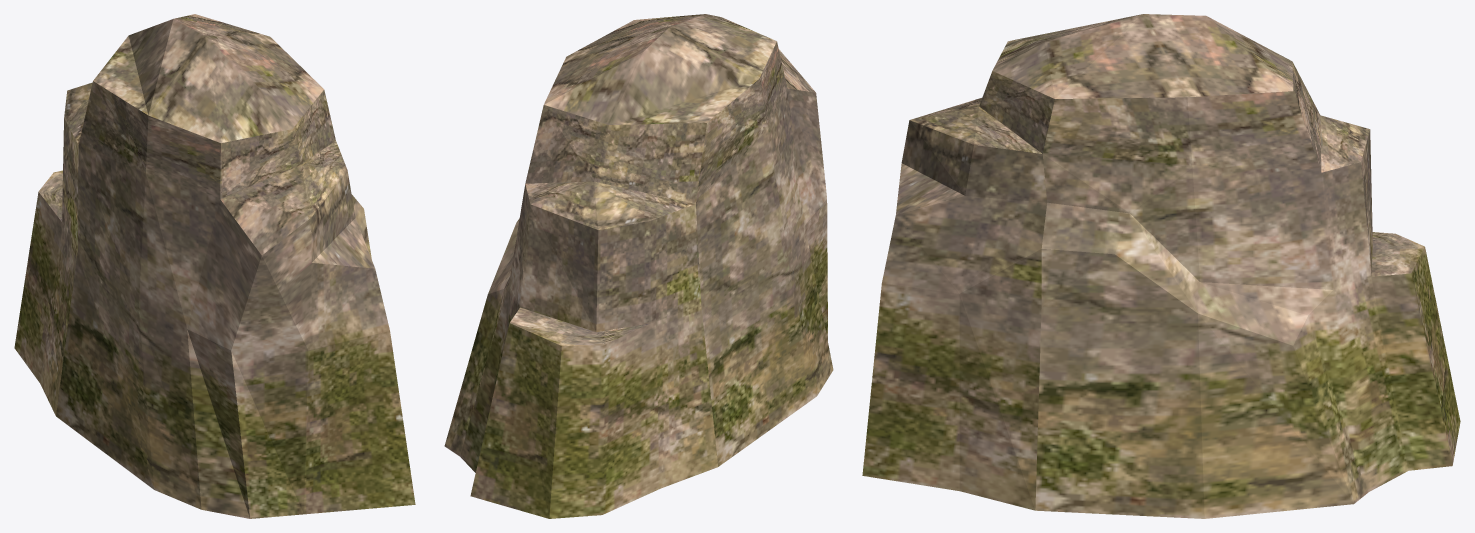
File: town_mountain_a__11___1_16.fbx
3 renders of one model, left to right at view 1: azimuth 30°, elevation 25°; view 2: azimuth 150°, elevation 25°; view 3: azimuth 270°, elevation 25°, orthographic. The views are drawn at different scales.
Visible parts, largest first — view 1: town_mountain_a__11___1_16; view 2: town_mountain_a__11___1_16; view 3: town_mountain_a__11___1_16.
Part boxes in pixels (x1,y1,x2,y2): town_mountain_a__11___1_16: [14, 14, 415, 518]; town_mountain_a__11___1_16: [444, 14, 833, 518]; town_mountain_a__11___1_16: [862, 14, 1460, 518].
Bounding box in the file's own units: 21.92 × 31.17 × 40.2.
